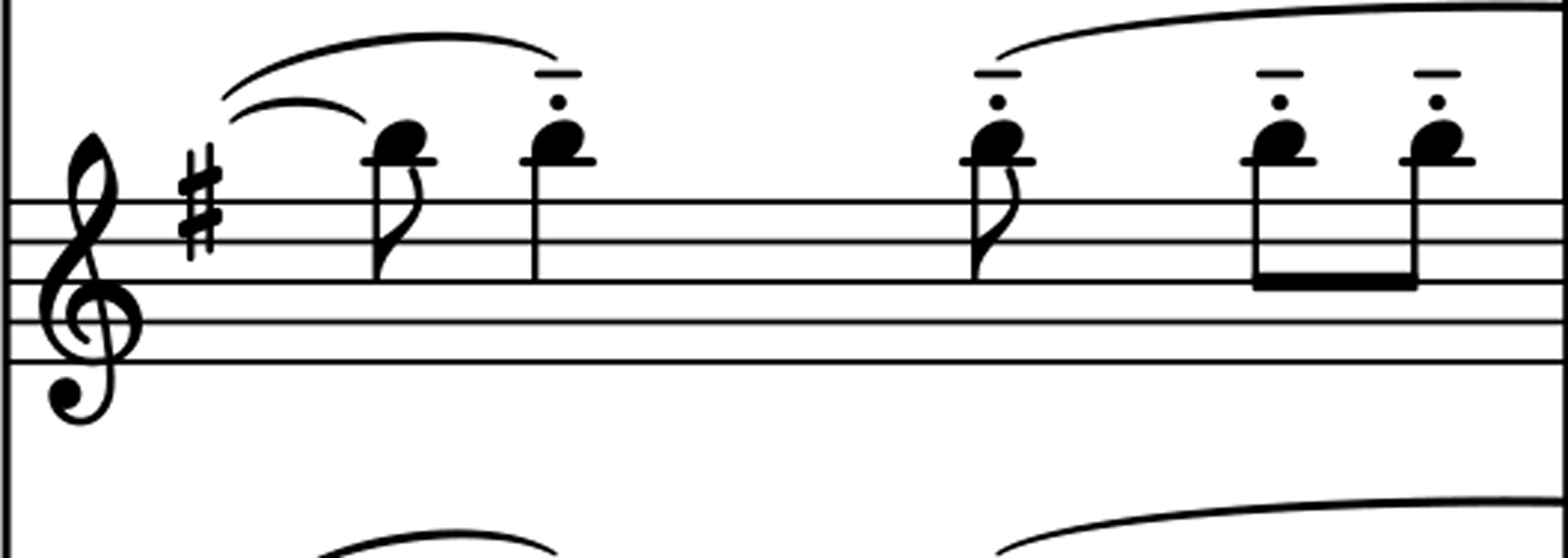beam: (996, 479, 1568, 555), (997, 0, 1566, 59), (222, 31, 558, 100)
clefG: (22, 120, 162, 441)
ledgerLine: (364, 157, 437, 165)
noteheadBlackInSpace: (1254, 120, 1305, 160), (1411, 120, 1462, 159), (532, 120, 582, 159), (375, 120, 425, 158), (972, 120, 1021, 158)
slur: (997, 0, 1567, 58), (222, 31, 557, 100), (319, 529, 555, 558), (230, 99, 365, 123)
tie: (230, 99, 365, 122)
timeSig3: (178, 180, 222, 259)
